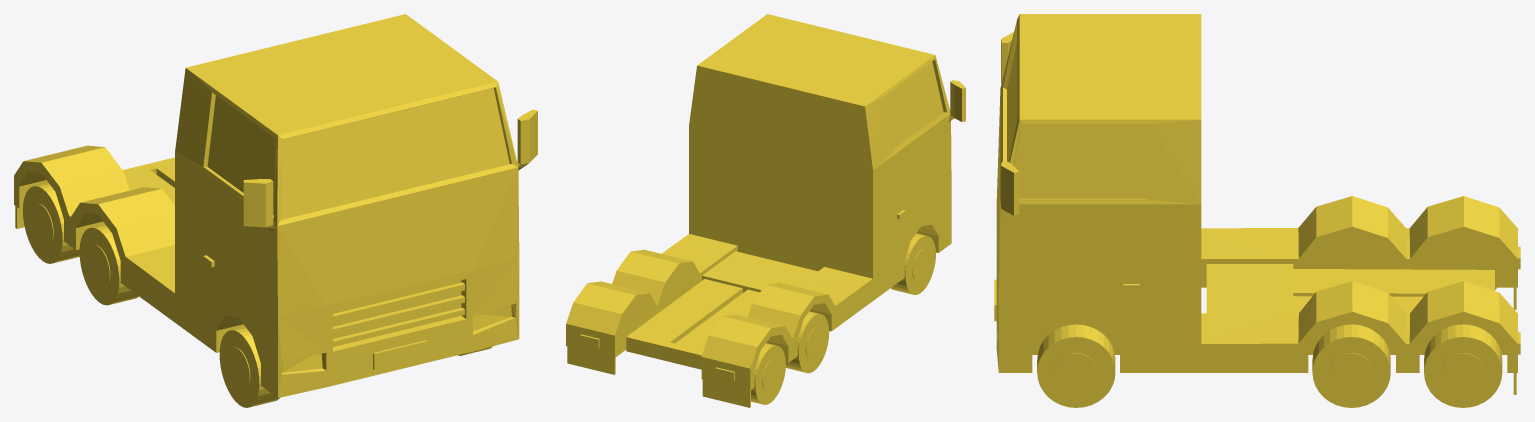
File: car.glb
The picture shows the model from 3 angles, left to right: view 1: azimuth 30°, elevation 25°; view 2: azimuth 150°, elevation 25°; view 3: azimuth 270°, elevation 25°; orthographic projection. The views are drawn at different scales.
Bounding box in the file's own units: 3.41 × 3.2 × 5.38.
